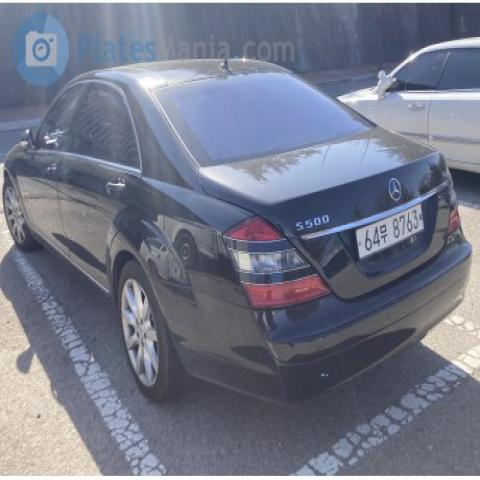LP: (350, 196, 430, 268)
